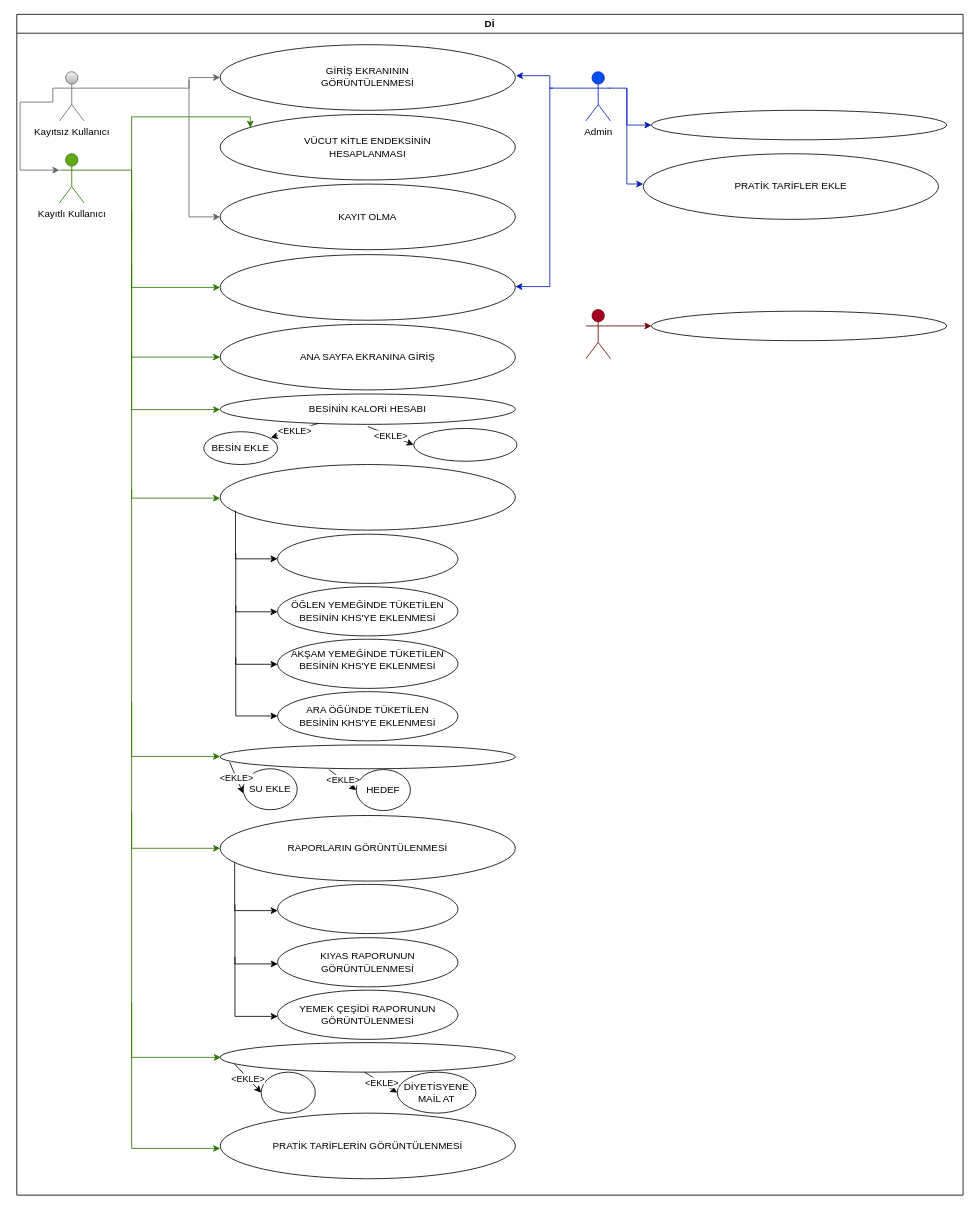
Image size: 977x1210. Some labels were removed from this diagram. The centre of each missing label's shape, as x and y in pixels:
"ADMİNE MAİL AT" belongs at pixel 287 1092.
"ADMİNE SORULAN SORULARI MAİL İLE CEVAPLA" belongs at pixel 799 124.
"DİYETİSYEN" belongs at pixel 597 334.
"DİYETİSYENE SORULAN SORULARI MAİL İLE CEVAPLA" belongs at pixel 799 325.
"GÜN SONU RAPORUNUN GÖRÜNTÜLENMESİ" belongs at pixel 367 909.
"KAHVALTIDA TÜKETİLEN BESİNİN KHS'YE EKLENMESİ" belongs at pixel 367 558.
"KALORİ HESAPLA" belongs at pixel 465 444.
"KAYITLI KULLANICI GİRİŞİ" belongs at pixel 367 287.
"TÜKETİLEN BESİNİN KALORİ TAKİBİ" belongs at pixel 367 497.
"TÜKETİLEN SU MİKTARININ GİRİLMESİ" belongs at pixel 367 756.
"UZMANA SORMAK" belongs at pixel 367 1057.
